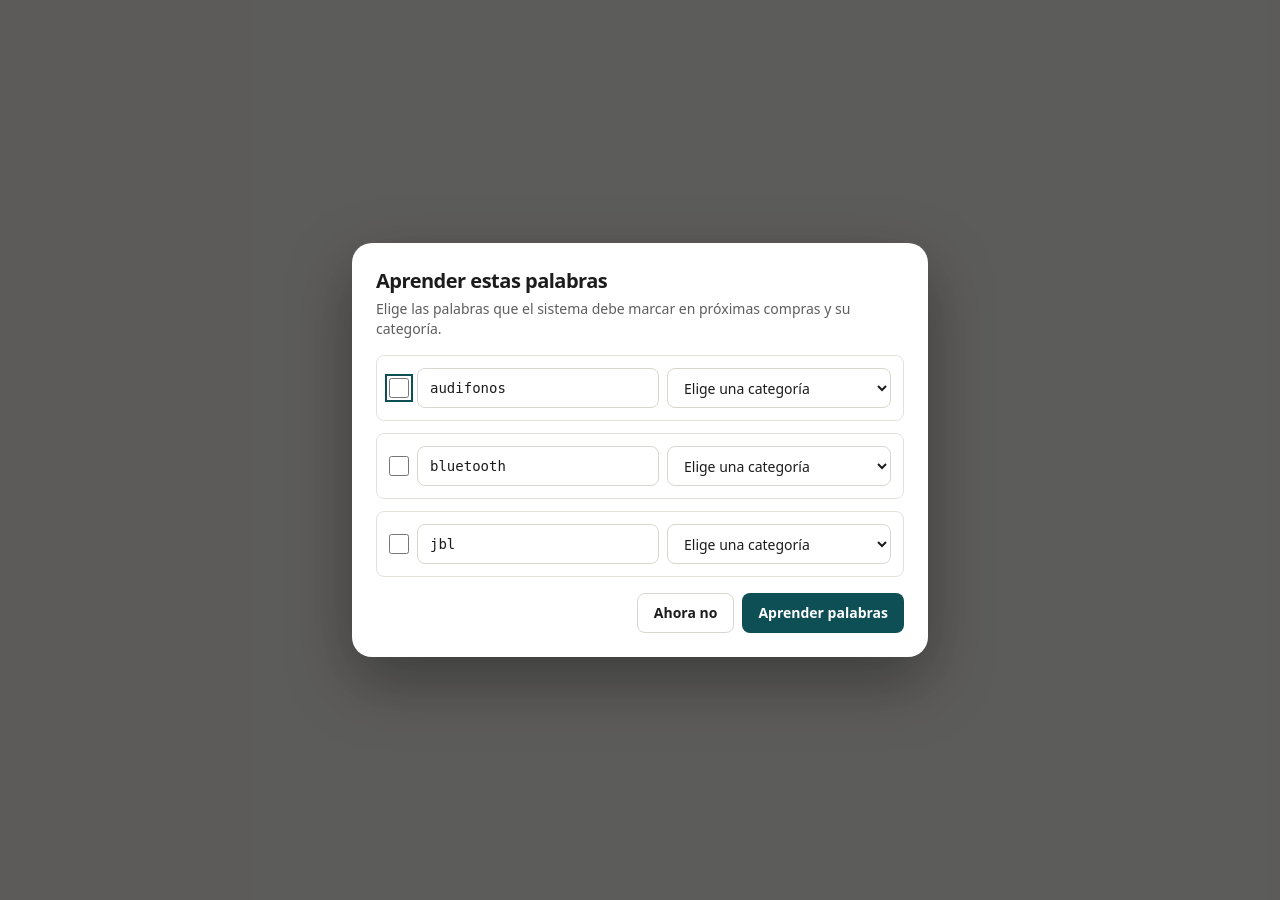
Test: <AprenderPalabras /> · guardar (R-7, CA-9) › un término corregido de menos de 3 letras se rechaza en el formulario, sin enviar
The image size is (1280, 900).
Step 1. Click the checkbox named "Incluir el término 2" → (399, 466), box x1=389 y1=456 x2=409 y2=476
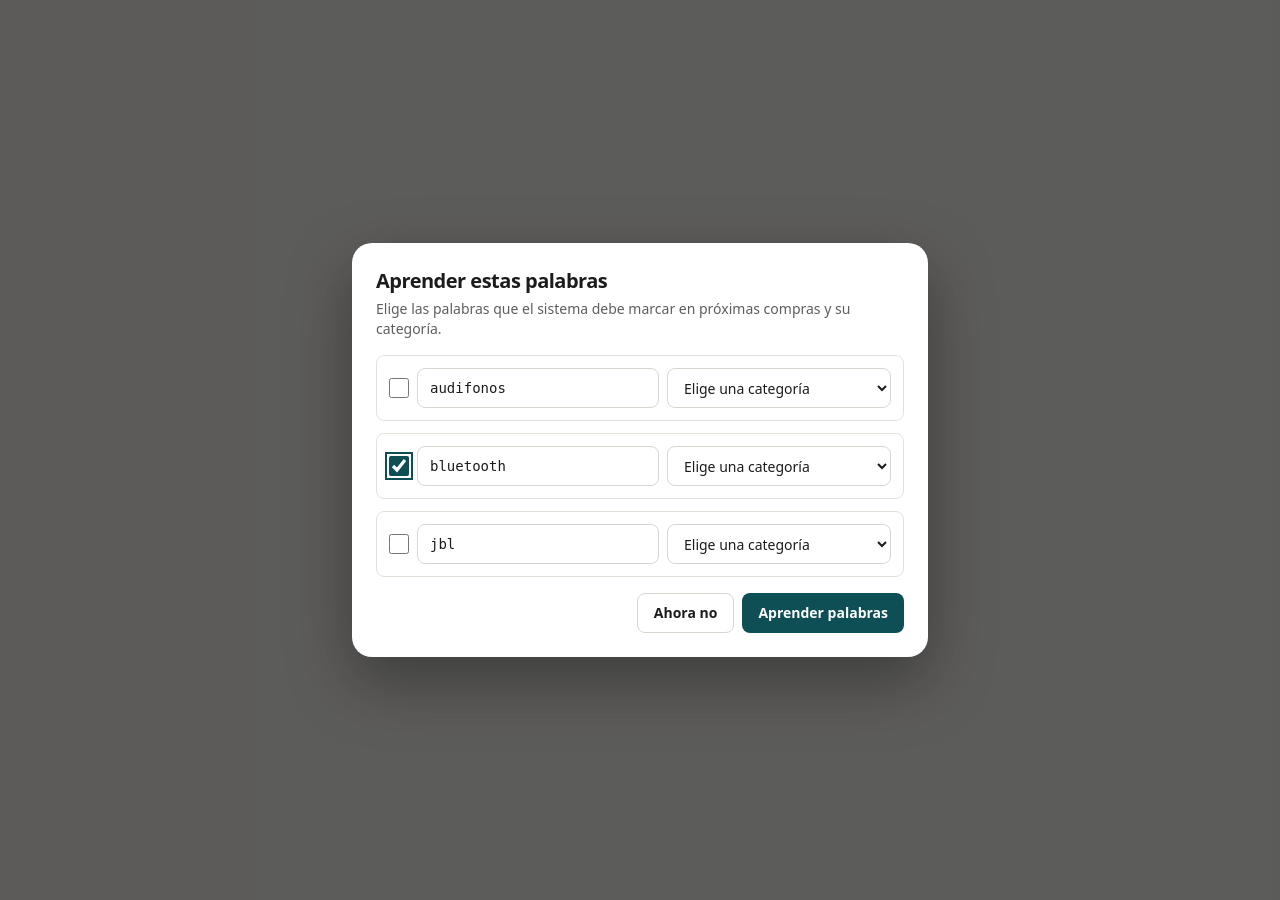
Step 2. Select "Entretenimiento" in the dropdown named "Categoría del término 2" → (779, 466), box x1=667 y1=446 x2=891 y2=486
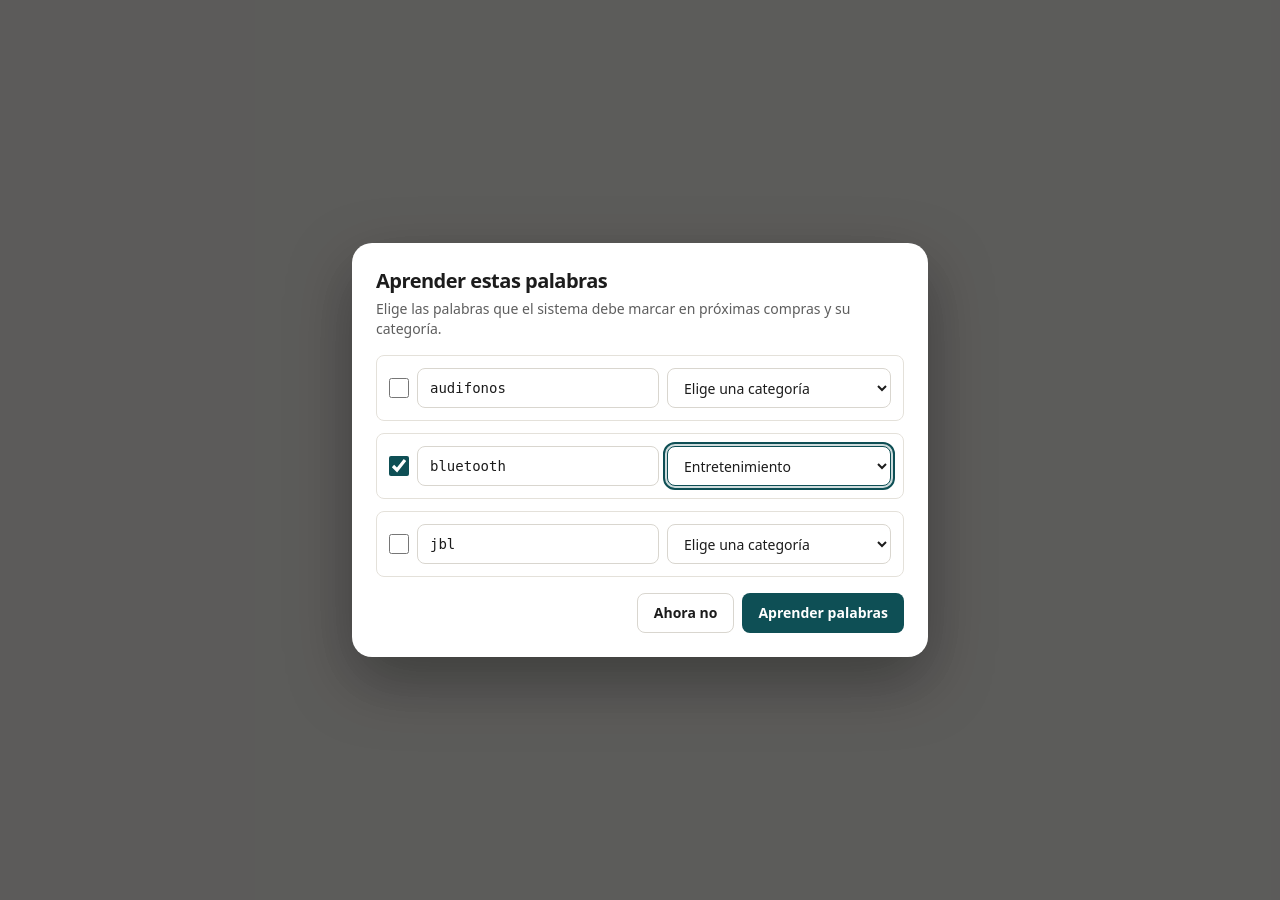
Step 3. Replace the text in the field named "Término 2" with "ab" → (538, 466), box x1=417 y1=446 x2=659 y2=486
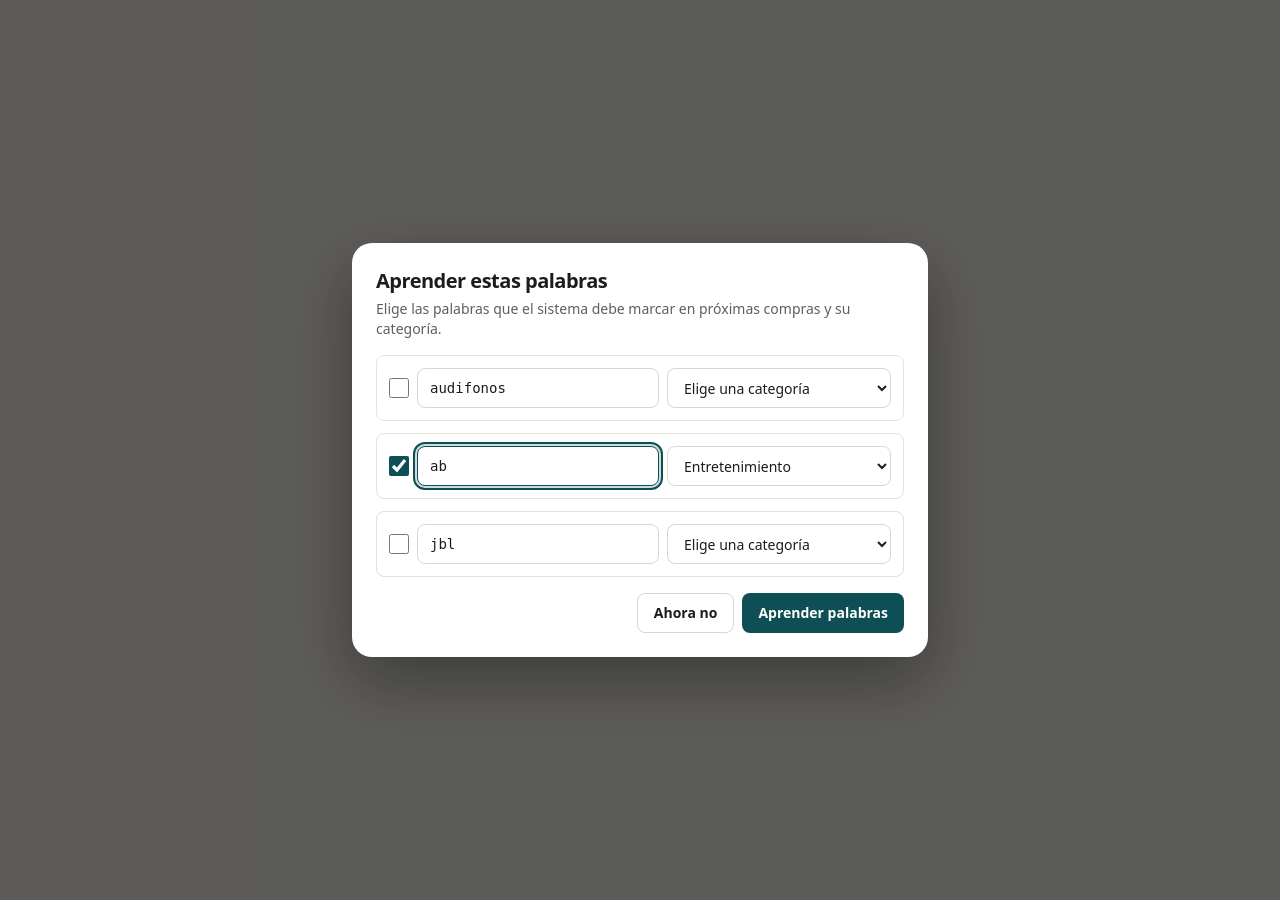
Step 4. Click the button "Aprender palabras" → (823, 613), box x1=742 y1=593 x2=904 y2=633
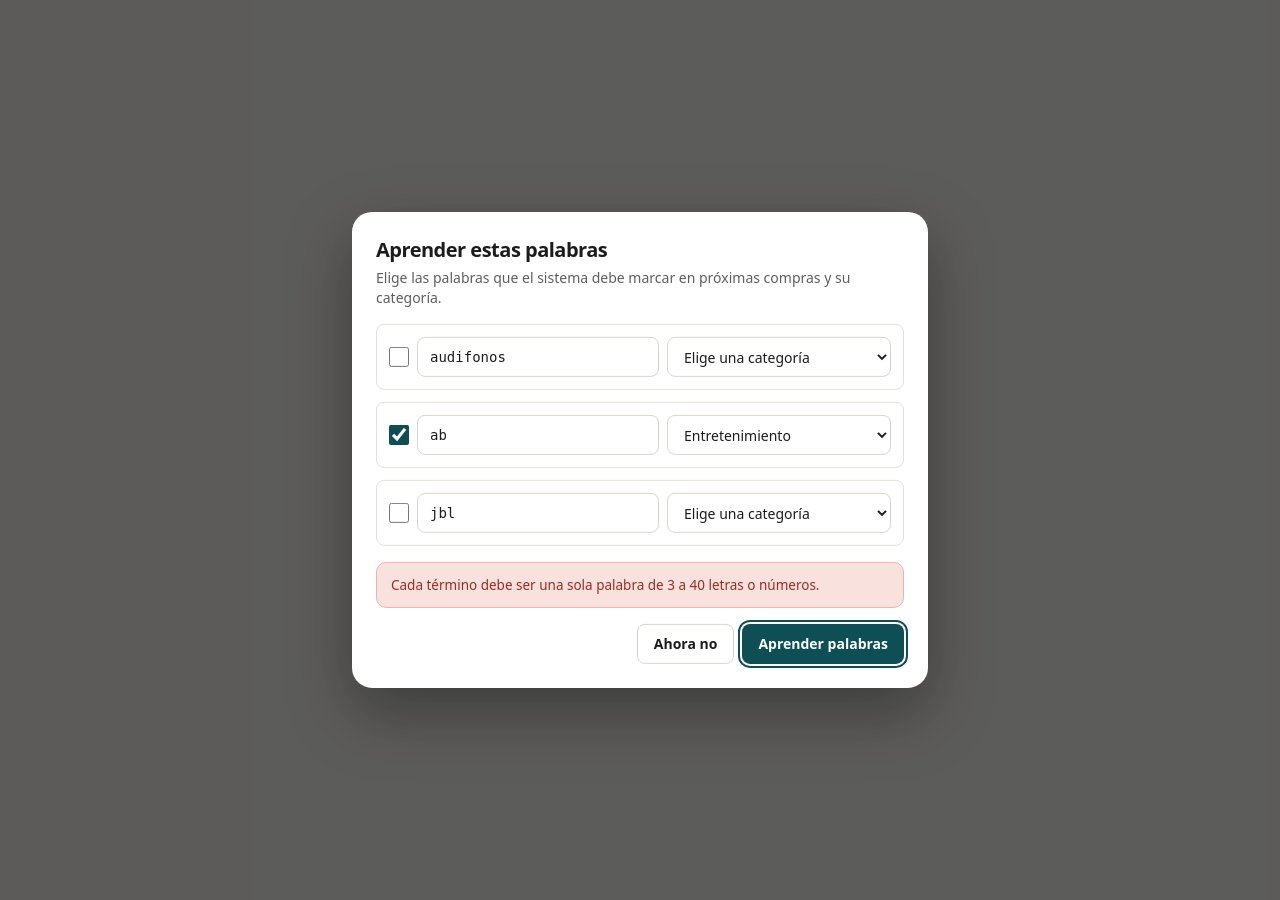
expect the message reads "Cada término debe ser una sola palabra de 3 a 40 letras o números.": met, box x1=391 y1=576 x2=820 y2=594
